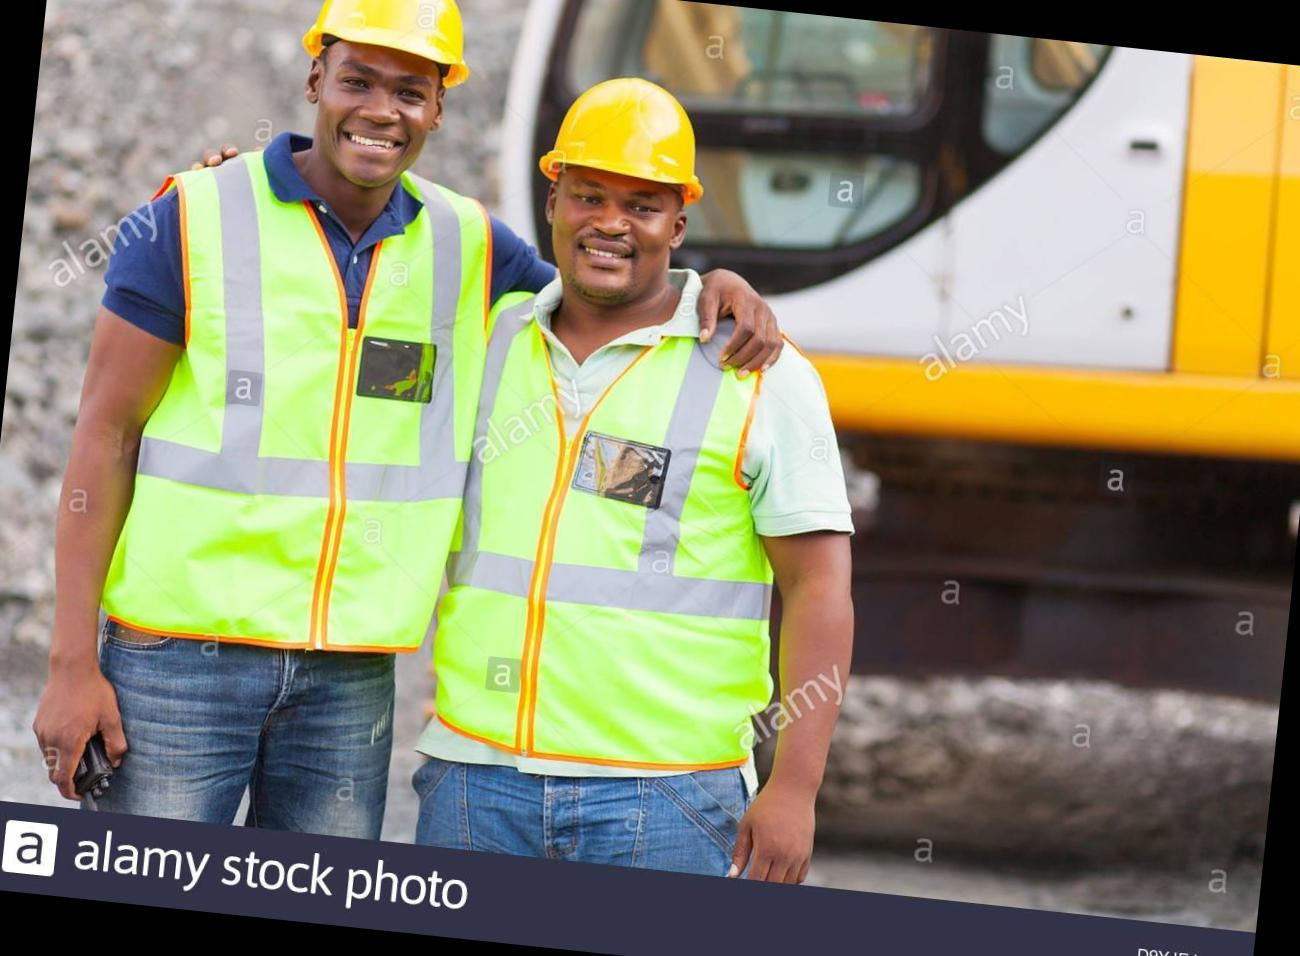Vest: (102, 128, 499, 665), (435, 261, 815, 818)
